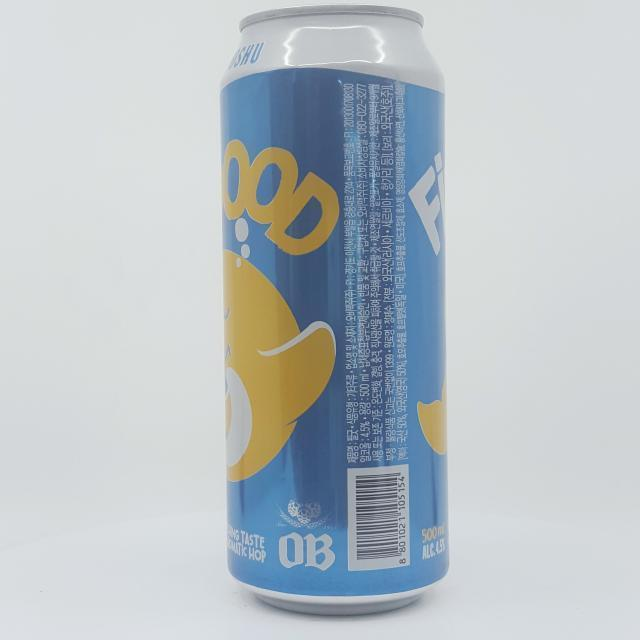can: (212, 1, 454, 619)
